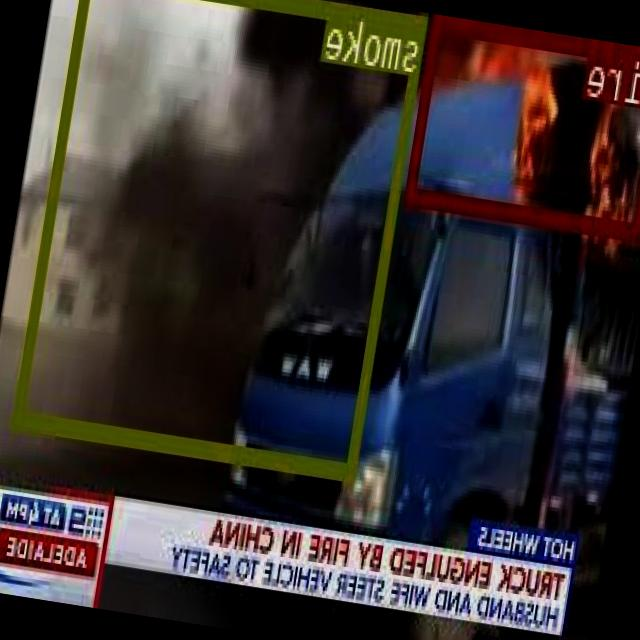fire: (407, 15, 640, 236)
smoke: (15, 0, 429, 479)
